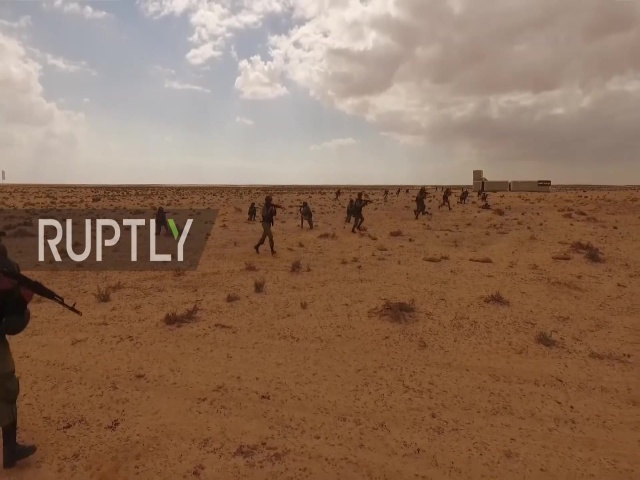person: (252, 195, 280, 258), (353, 192, 368, 234), (295, 200, 315, 231), (414, 186, 428, 221), (437, 188, 455, 210)
